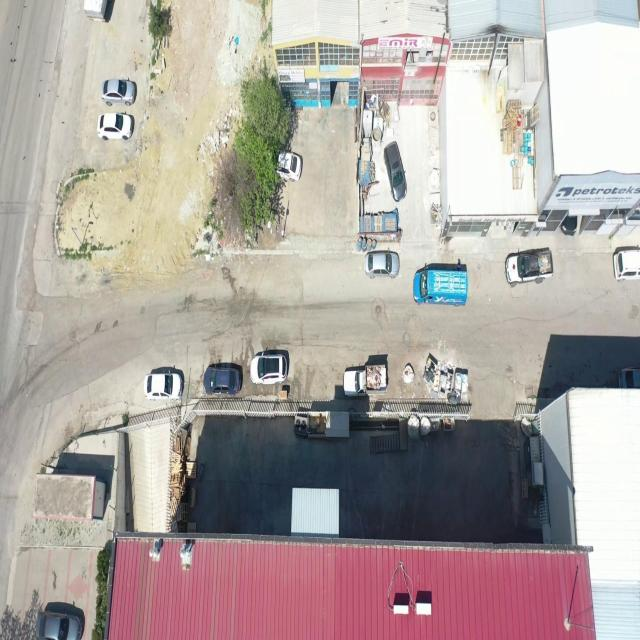p3rson: (457, 263, 462, 271)
